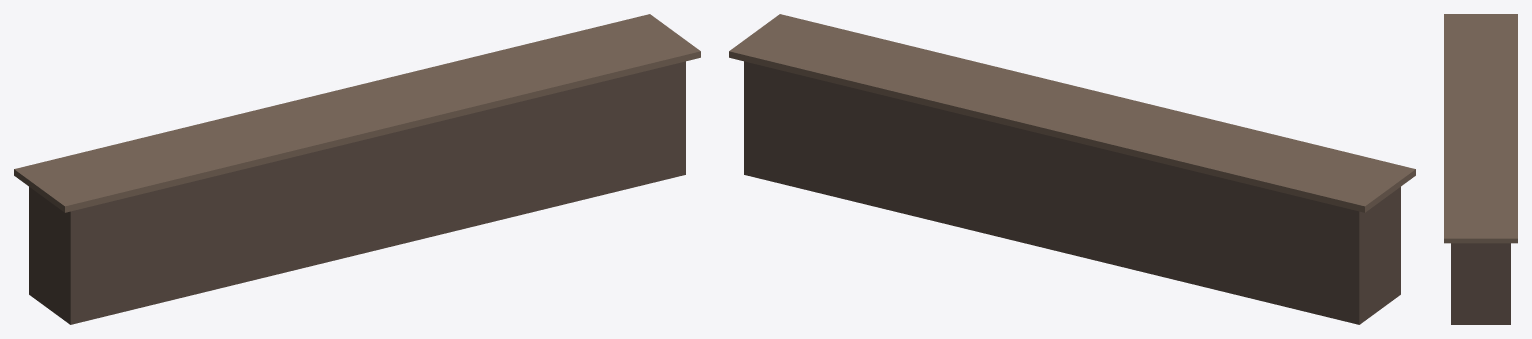
The model's file is mostrador_archivo.glb.
3 views of the same model, side by side, from view 1: azimuth 30°, elevation 25°; view 2: azimuth 150°, elevation 25°; view 3: azimuth 270°, elevation 25° (orthographic). The views are drawn at different scales.
Visible parts, largest first — view 1: MostradorArchivo; view 2: MostradorArchivo; view 3: MostradorArchivo.
Boxes of the visible parts, x1,y1,x2,y2 form: MostradorArchivo: (14, 14, 700, 324); MostradorArchivo: (729, 14, 1415, 324); MostradorArchivo: (1444, 14, 1517, 324).
Size of the model in its own units: 6.2 by 1.16 by 0.86.
